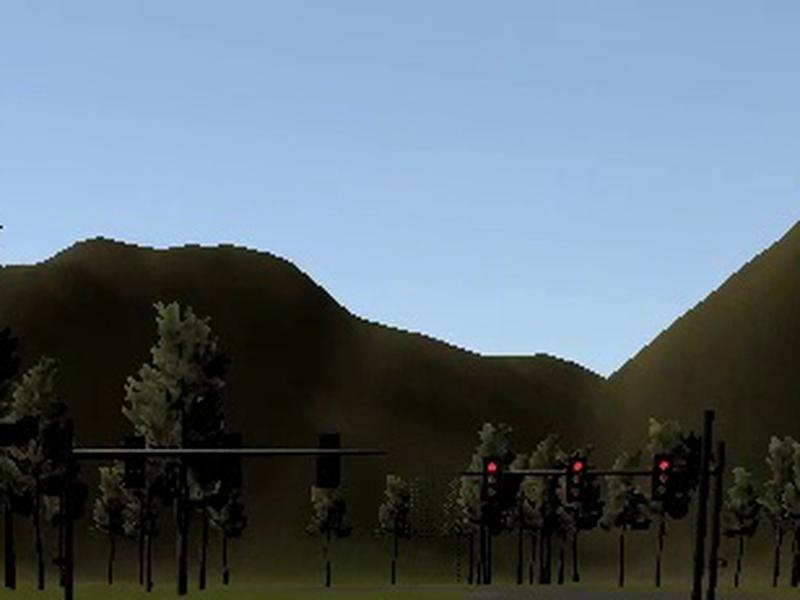Red: (479, 456, 503, 503), (651, 454, 672, 500), (566, 457, 586, 502)
